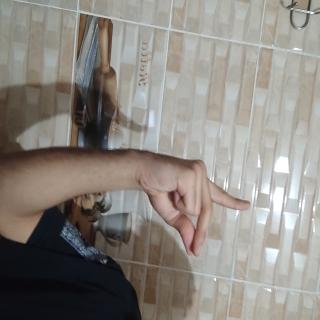TAA: (108, 90, 194, 252)
